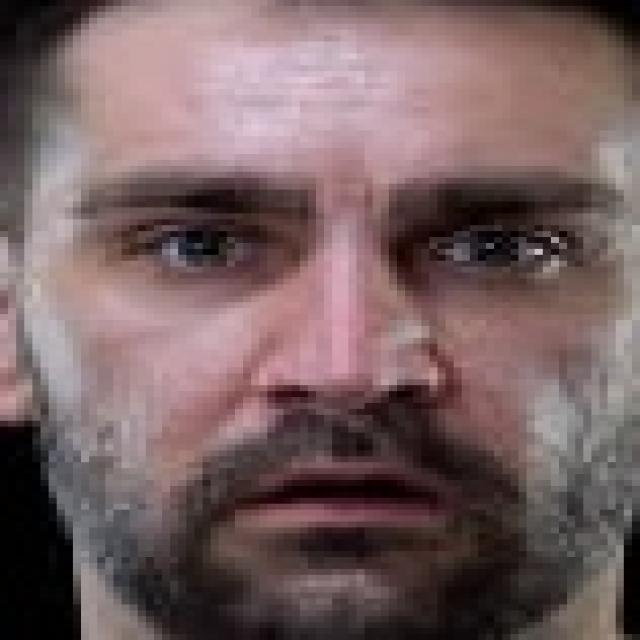Anxiety: (16, 5, 632, 634)
